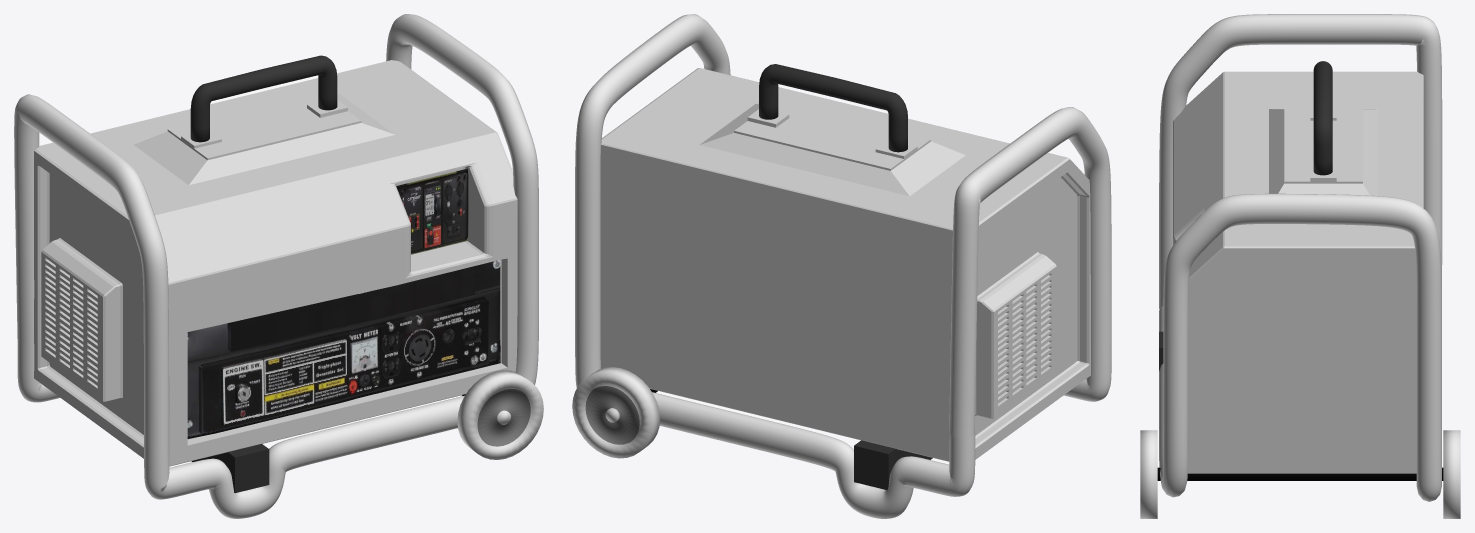
File: Generator.fbx
3 views of the same model, side by side, from view 1: azimuth 30°, elevation 25°; view 2: azimuth 150°, elevation 25°; view 3: azimuth 270°, elevation 25° (orthographic). The views are drawn at different scales.
Visible parts, largest first — view 1: Generator; view 2: Generator; view 3: Generator.
Boxes of the visible parts, <box> form: Generator: <box>14,14,543,518</box>; Generator: <box>572,14,1111,518</box>; Generator: <box>1140,14,1460,518</box>.
Size of the model in its own units: 111 by 99.1 by 78.93.
